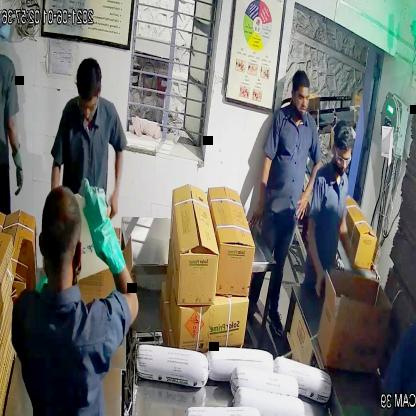goggles: (330, 146, 354, 170)
